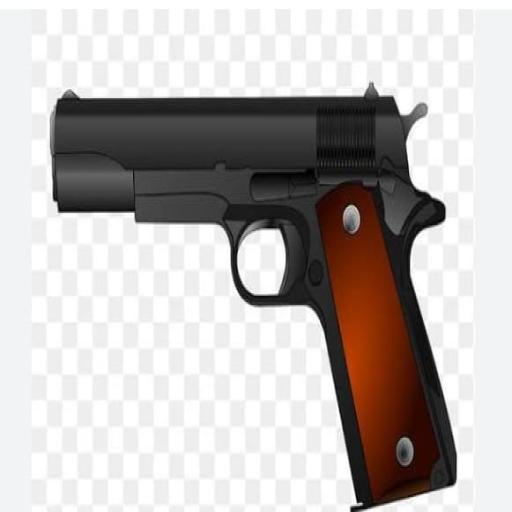Gun: (52, 86, 456, 507)
